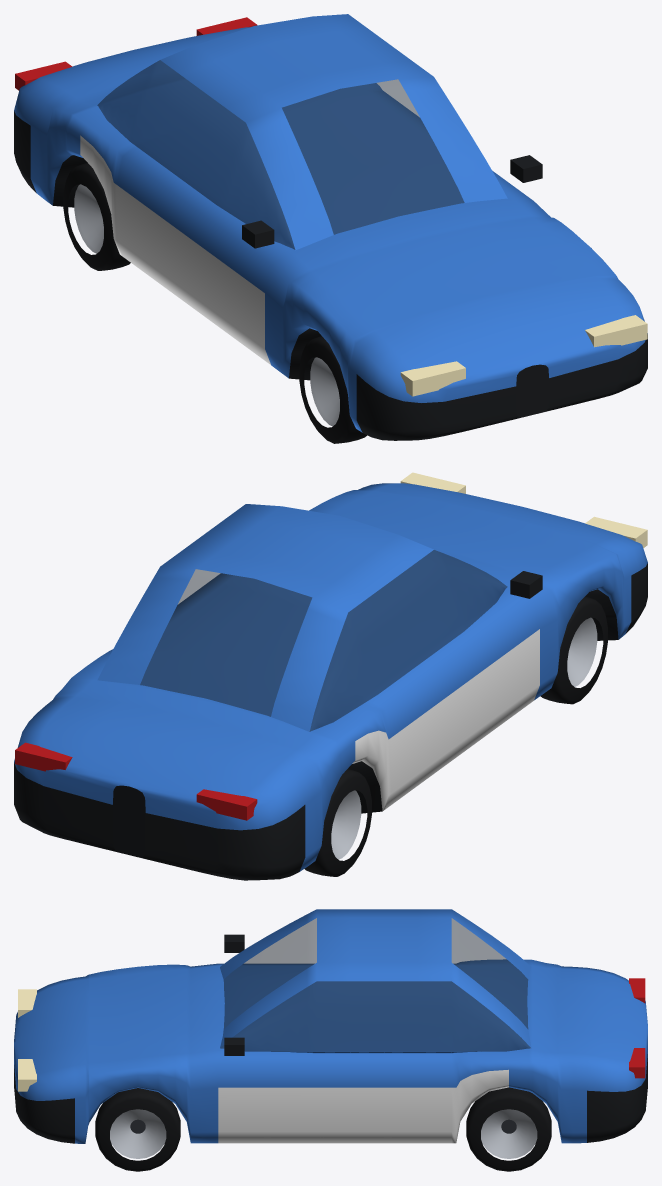
File: desktop.glb
The picture shows the model from 3 angles, top to bottom: view 1: azimuth 30°, elevation 25°; view 2: azimuth 150°, elevation 25°; view 3: azimuth 270°, elevation 25°; orthographic projection. The views are drawn at different scales.
Visible parts, largest first — view 1: body, glass, tyre_rr, tyre_fr, light_head_r, rim_rr, rim_fr, light_head_l, light_brake_r; view 2: body, glass, tyre_rr, tyre_fr, rim_fr, rim_rr, light_brake_r, light_brake_l, light_head_r, light_head_l; view 3: body, glass, tyre_rl, tyre_fl, rim_fl, rim_rl, light_head_l, light_brake_l, light_head_r.
Part boxes in pixels (x1=…): body: x1=14, y1=14, x2=647, y2=440; glass: x1=97, y1=60, x2=464, y2=249; tyre_rr: x1=63, y1=163, x2=130, y2=270; tyre_fr: x1=299, y1=336, x2=366, y2=443; light_head_r: x1=400, y1=361, x2=465, y2=396; rim_rr: x1=74, y1=184, x2=103, y2=253; rim_fr: x1=310, y1=357, x2=339, y2=426; light_head_l: x1=585, y1=315, x2=647, y2=347; light_brake_r: x1=15, y1=61, x2=72, y2=90; body: x1=14, y1=483, x2=647, y2=880; glass: x1=140, y1=550, x2=507, y2=731; tyre_rr: x1=304, y1=769, x2=371, y2=876; tyre_fr: x1=540, y1=596, x2=607, y2=704; rim_fr: x1=567, y1=617, x2=597, y2=686; rim_rr: x1=331, y1=790, x2=361, y2=859; light_brake_r: x1=196, y1=789, x2=257, y2=820; light_brake_l: x1=15, y1=742, x2=72, y2=771; light_head_r: x1=585, y1=516, x2=647, y2=547; light_head_l: x1=400, y1=472, x2=465, y2=493; body: x1=14, y1=909, x2=647, y2=1143; glass: x1=220, y1=918, x2=530, y2=1051; tyre_rl: x1=466, y1=1087, x2=551, y2=1171; tyre_fl: x1=95, y1=1088, x2=180, y2=1171; rim_fl: x1=110, y1=1109, x2=166, y2=1158; rim_rl: x1=481, y1=1109, x2=537, y2=1158; light_head_l: x1=18, y1=1059, x2=36, y2=1091; light_brake_l: x1=629, y1=1048, x2=645, y2=1078; light_head_r: x1=18, y1=989, x2=36, y2=1017.
Size of what is drawn, in the model's own units: 1.93 by 1.53 by 4.7.
